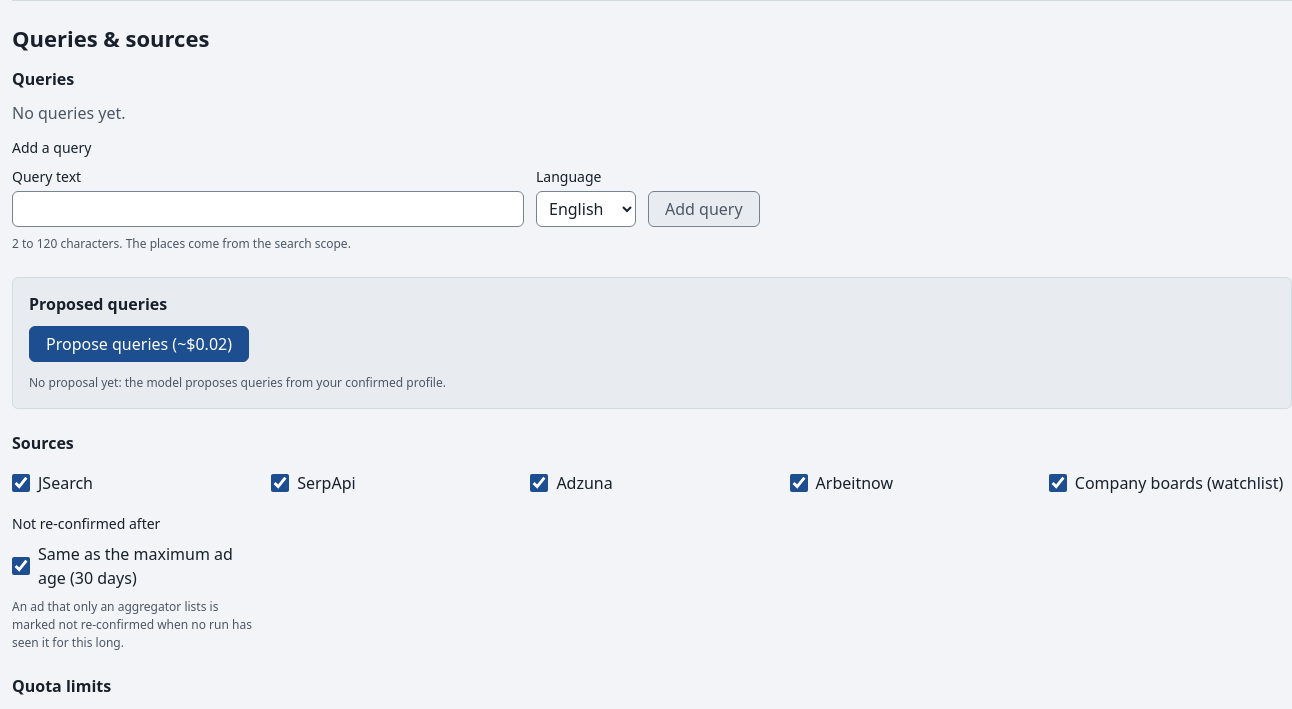
Test: ProposalPanel › a refused request shows the server's detail
Click the button "Propose queries (~$0.02)" at point(139, 344), box [29, 326, 249, 362]
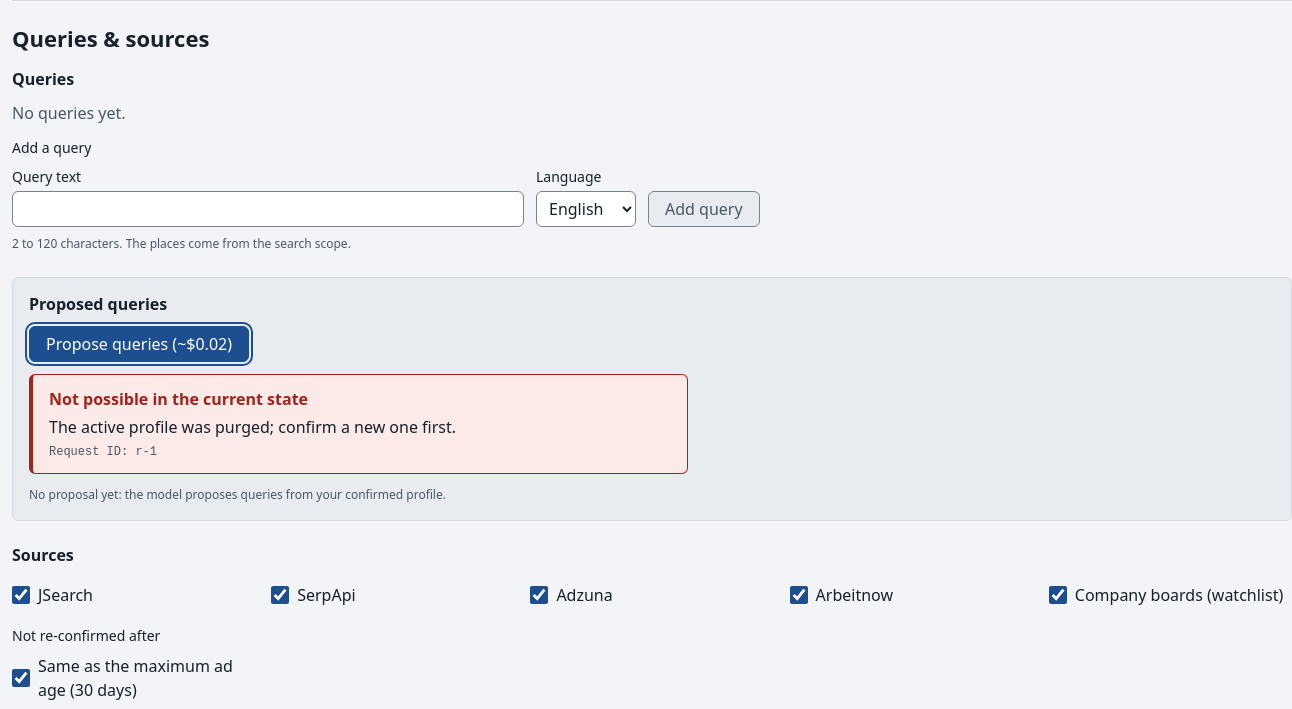
Now the message shows "Not possible in the current state", box [49, 388, 308, 410]
Now the message shows "The active profile was purged; confirm a new one first.", box [49, 416, 456, 438]
